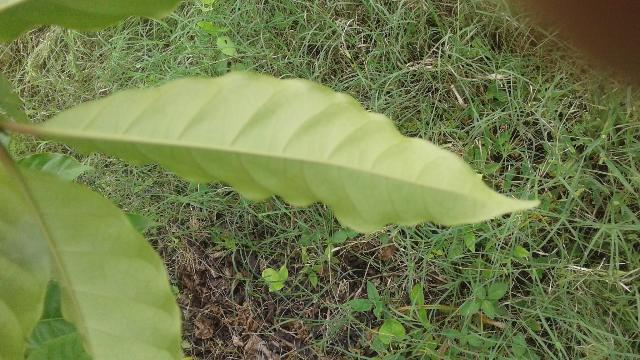healthy: (31, 70, 552, 235)
